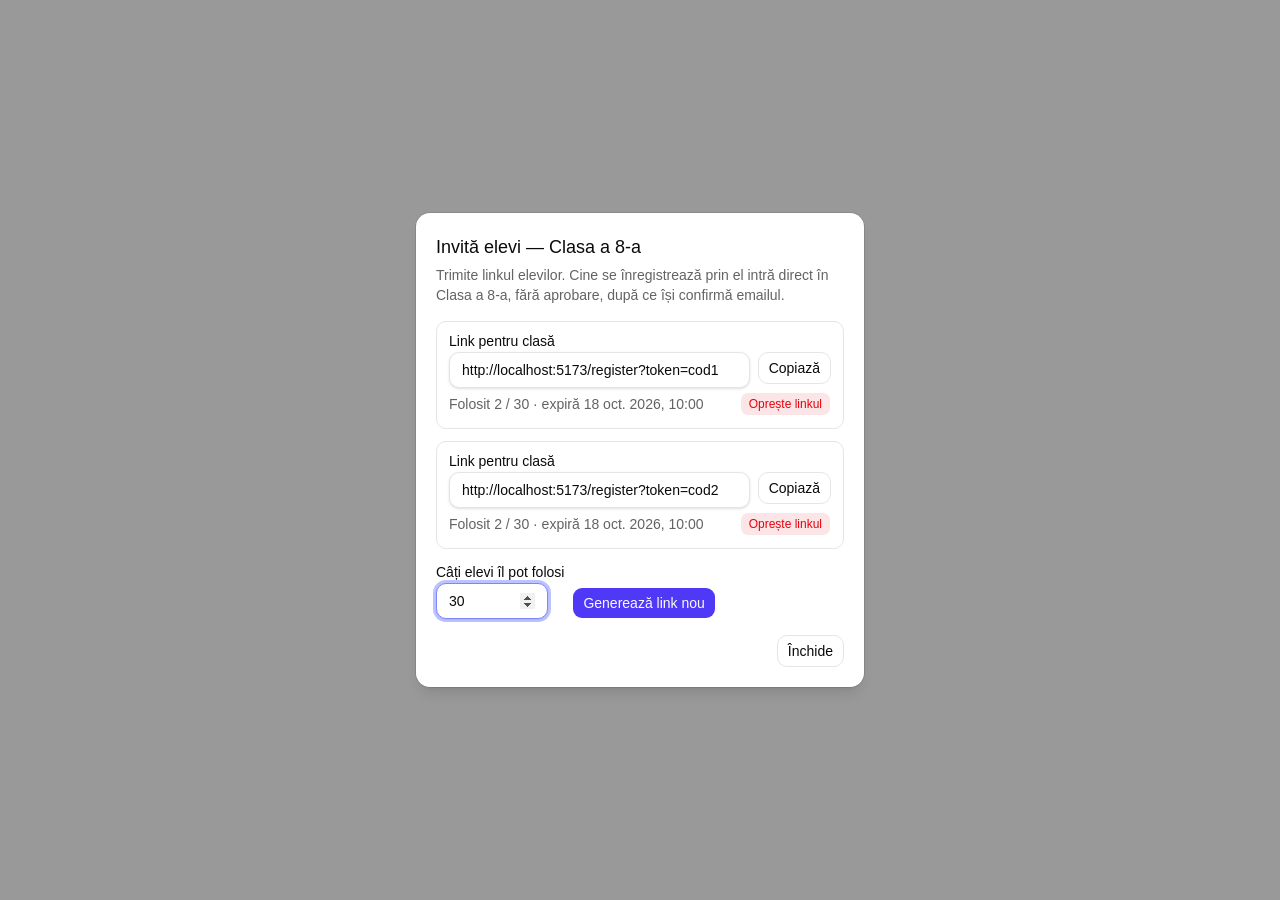
it: ClassInviteDialog › stops a link
Expected: the list with test id "class-invites" is shown, top-left (436, 321), bottom-right (844, 549)
Click the 1st button "Oprește linkul": x=785, y=404 top-left (740, 392), bottom-right (831, 416)
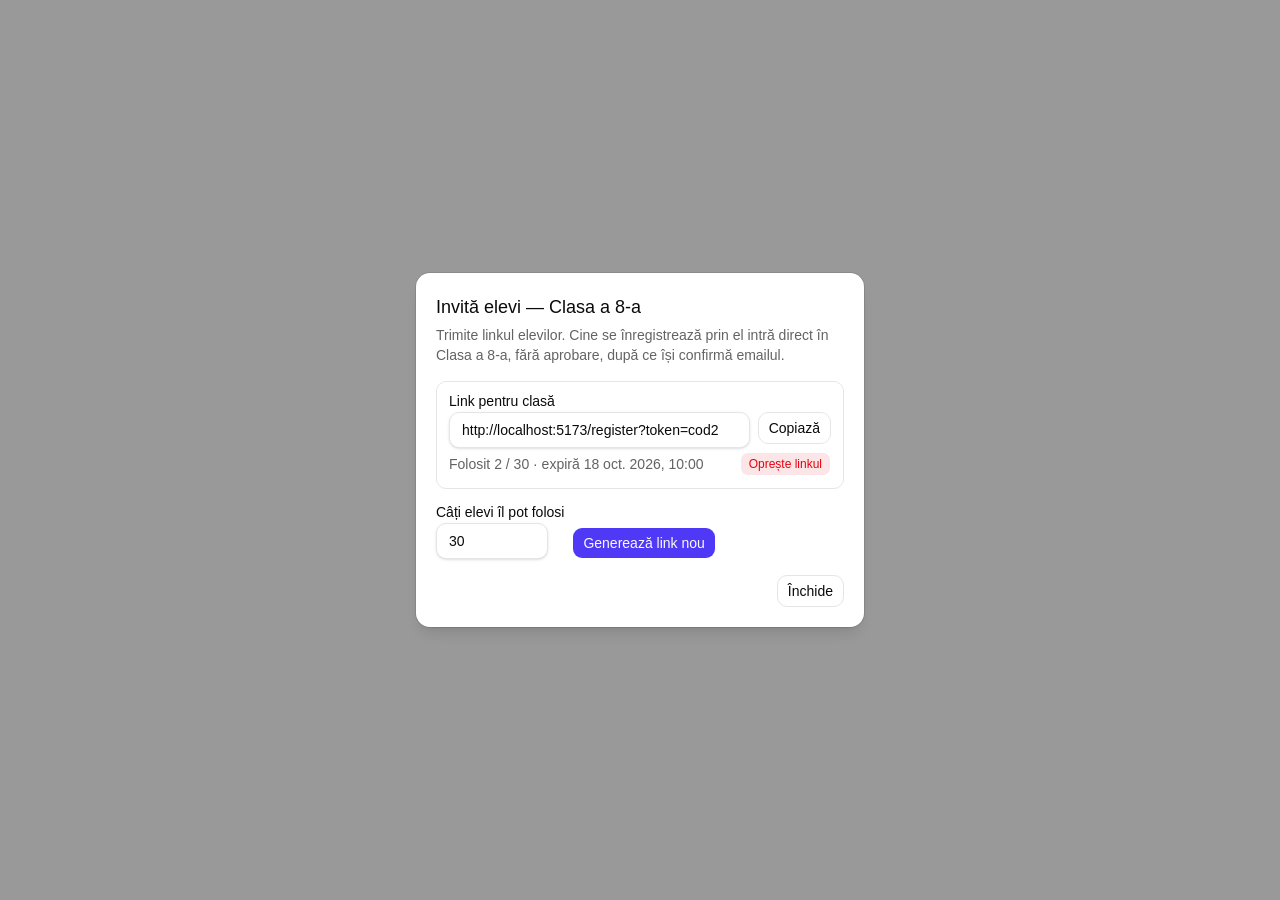
Result: the number of list items is 1 at top-left (436, 381), bottom-right (844, 489)
